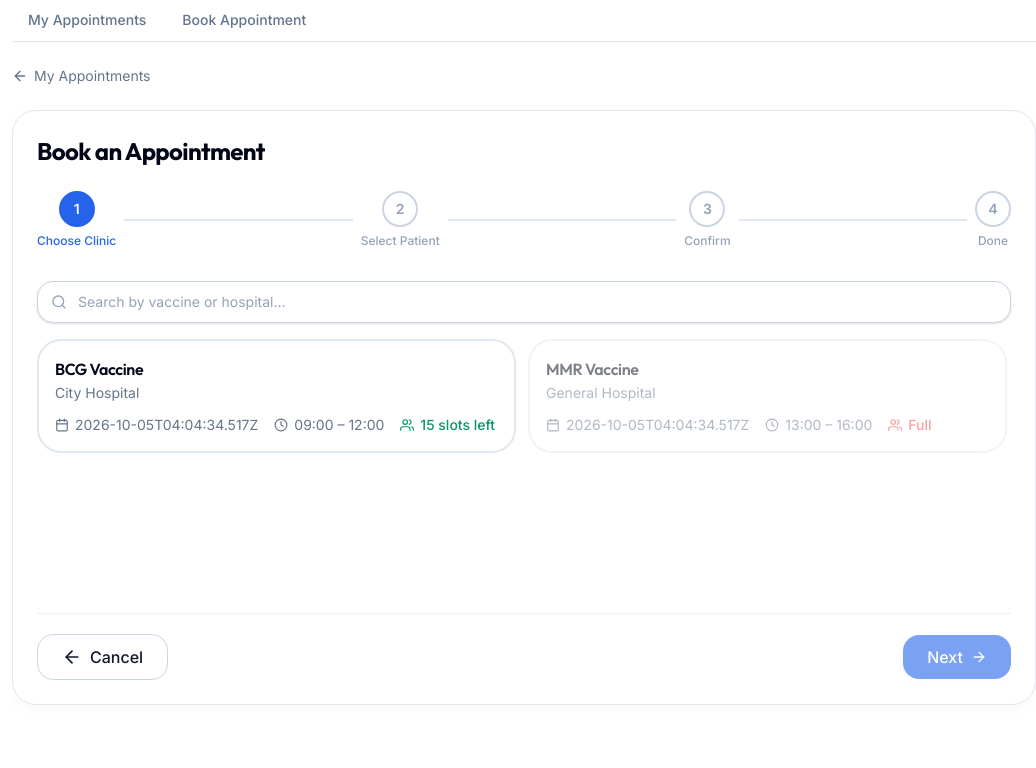
Test: BookAppointmentPage › advances to step 3 (Confirm) with booking summary
Expected: the heading "BCG Vaccine" is shown, [55,359,143,379]
select clinic
Click the button "BCG Vaccine": (99, 369) [37,339,516,453]
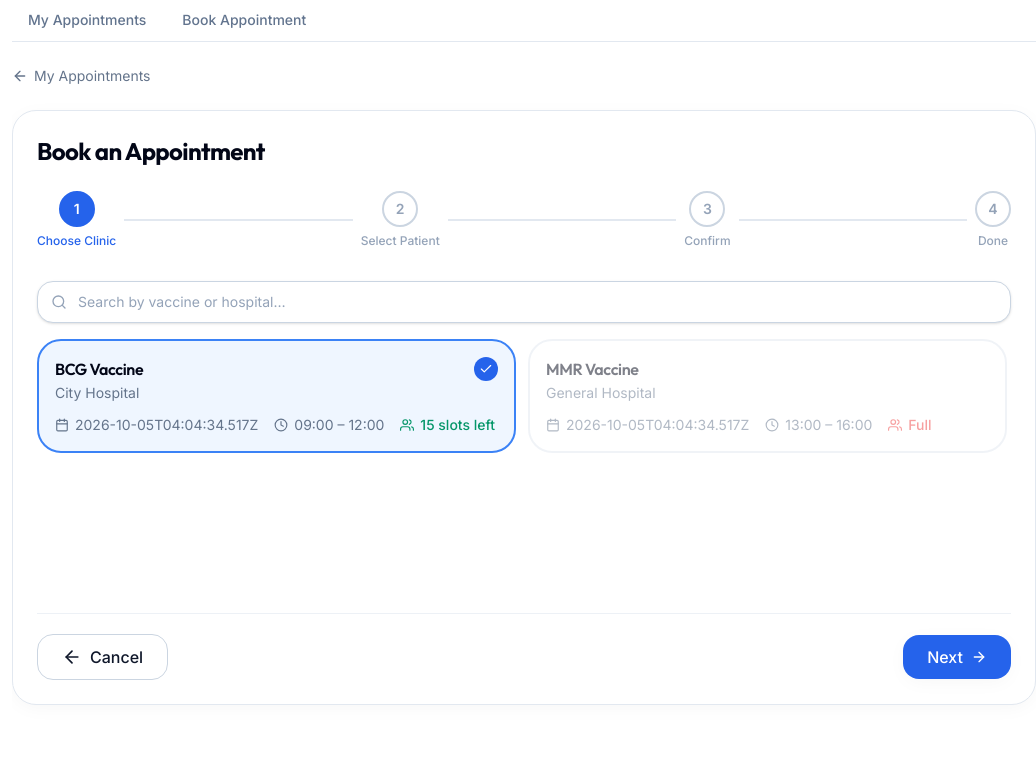
Click the button "Next": (957, 657) [903,635,1011,679]
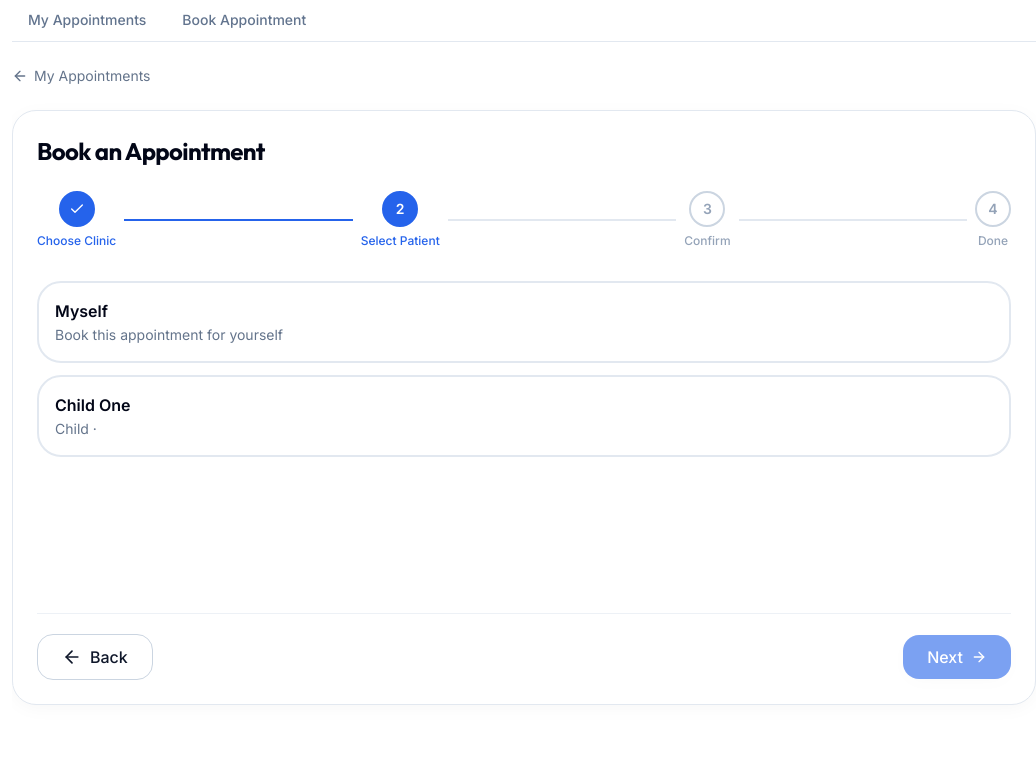
Expected: the text "Myself" is shown, [55,301,108,321]
select patient
Click the button "Myself": (81, 311) [37,281,1011,363]
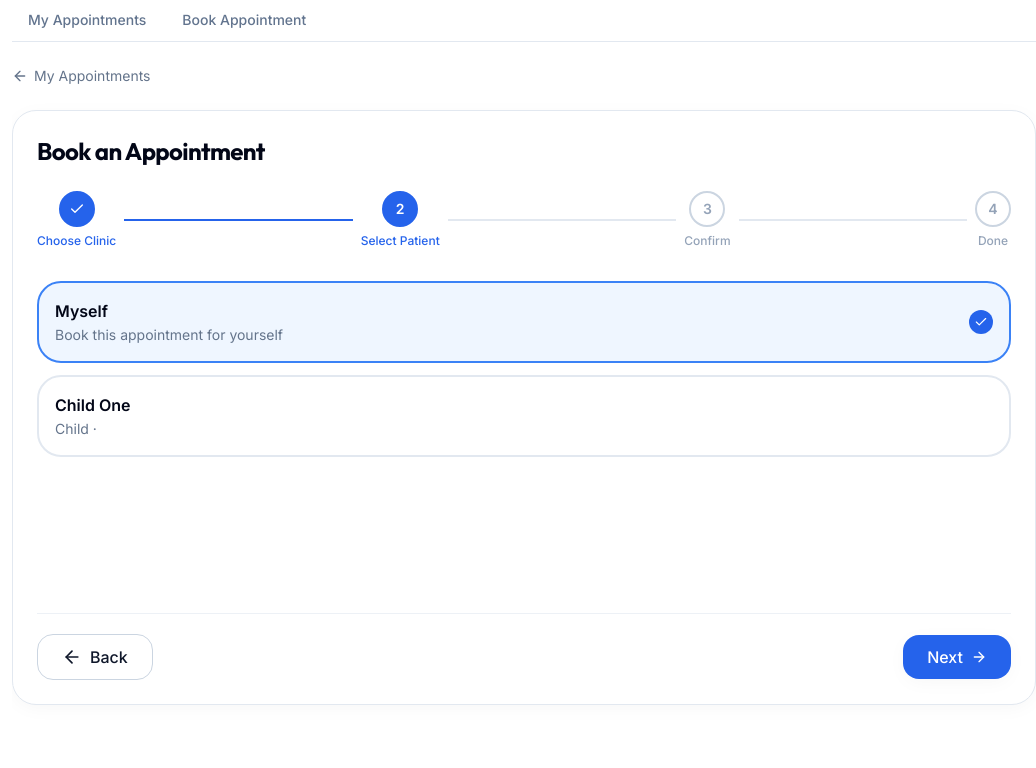
Click the button "Next": (957, 657) [903,635,1011,679]
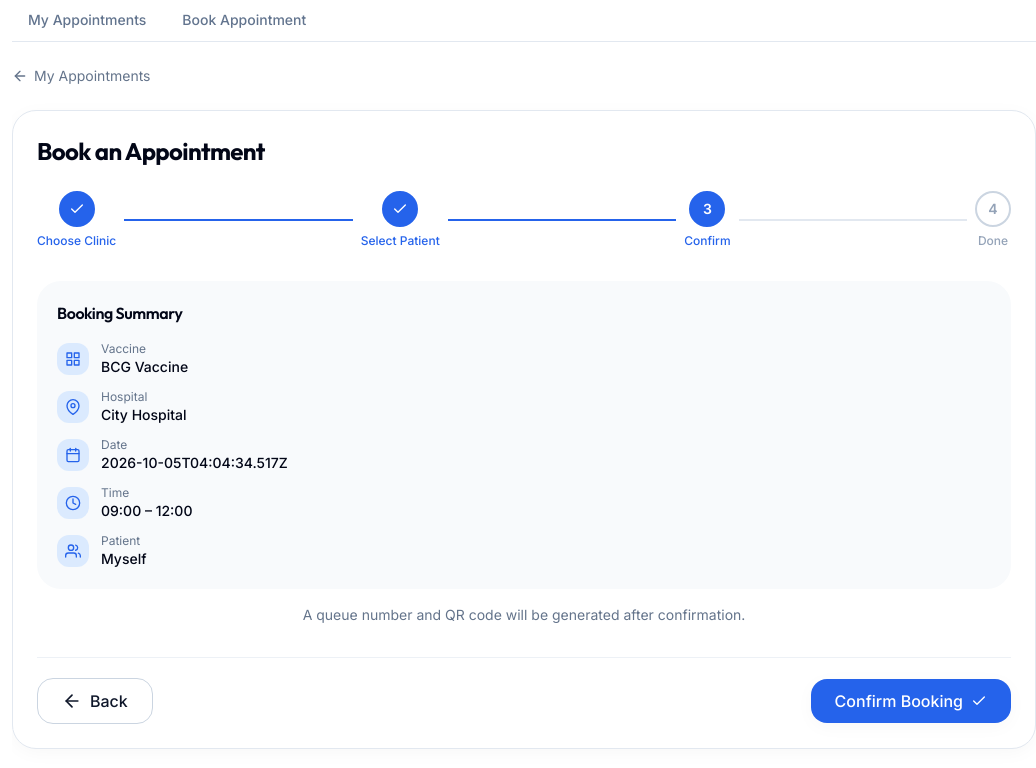
Expected: the text "Myself" is shown, [101,549,146,569]
Expected: the heading "Booking Summary" is shown, [57,303,182,323]
Expected: the text "BCG Vaccine" is shown, [101,357,188,377]
